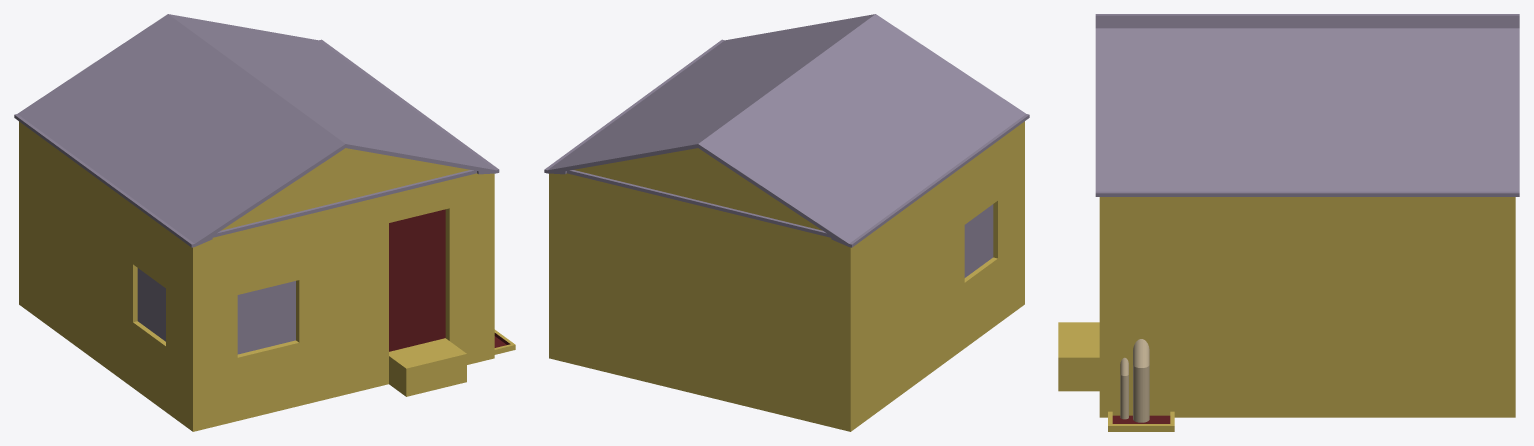
File: House1.fbx
3 renders of one model, left to right at view 1: azimuth 30°, elevation 25°; view 2: azimuth 150°, elevation 25°; view 3: azimuth 270°, elevation 25°, orthographic. The views are drawn at different scales.
Parts seen in each view (by area): view 1: Cube.015; view 2: Cube.015; view 3: Cube.015, Cylinder.020, Cube.016, Cylinder.021.
Boxes of the visible parts, x1=… form: Cube.015: x1=14, y1=14, x2=499, y2=431; Cube.015: x1=544, y1=14, x2=1029, y2=431; Cube.015: x1=1058, y1=14, x2=1519, y2=417; Cylinder.020: x1=1133, y1=339, x2=1149, y2=422; Cube.016: x1=1108, y1=411, x2=1174, y2=431; Cylinder.021: x1=1120, y1=357, x2=1128, y2=419.
Size of the model in its own units: 1092 by 800 by 1110.
